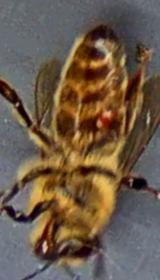varroa_mite: (90, 100, 124, 136)
